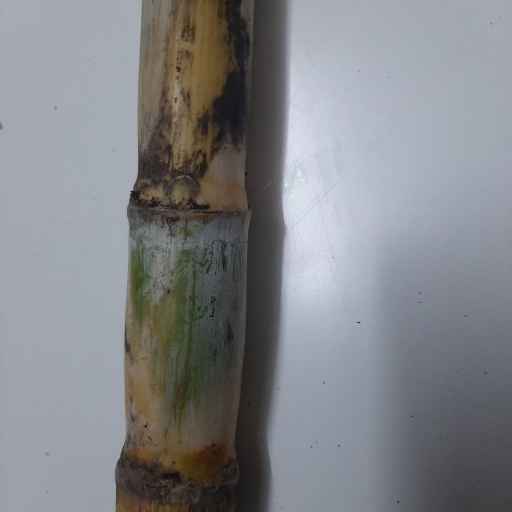Bud: (167, 174, 200, 208)
